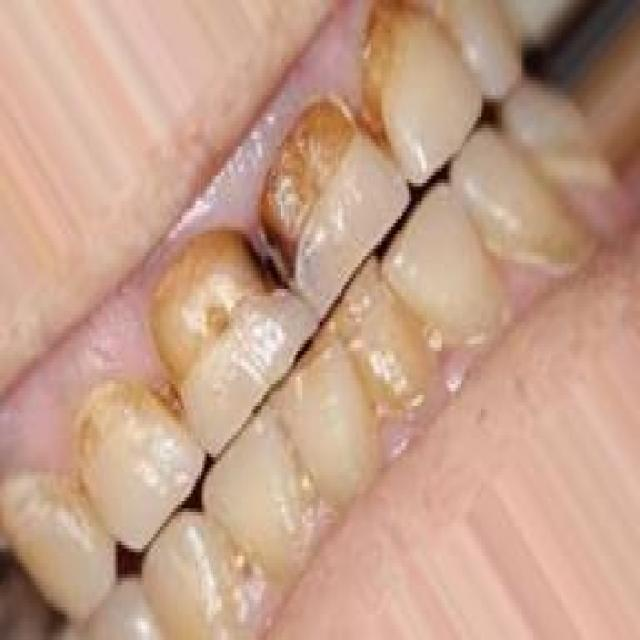caries: (143, 230, 285, 384), (257, 92, 360, 278), (346, 0, 414, 149), (68, 379, 116, 472)
